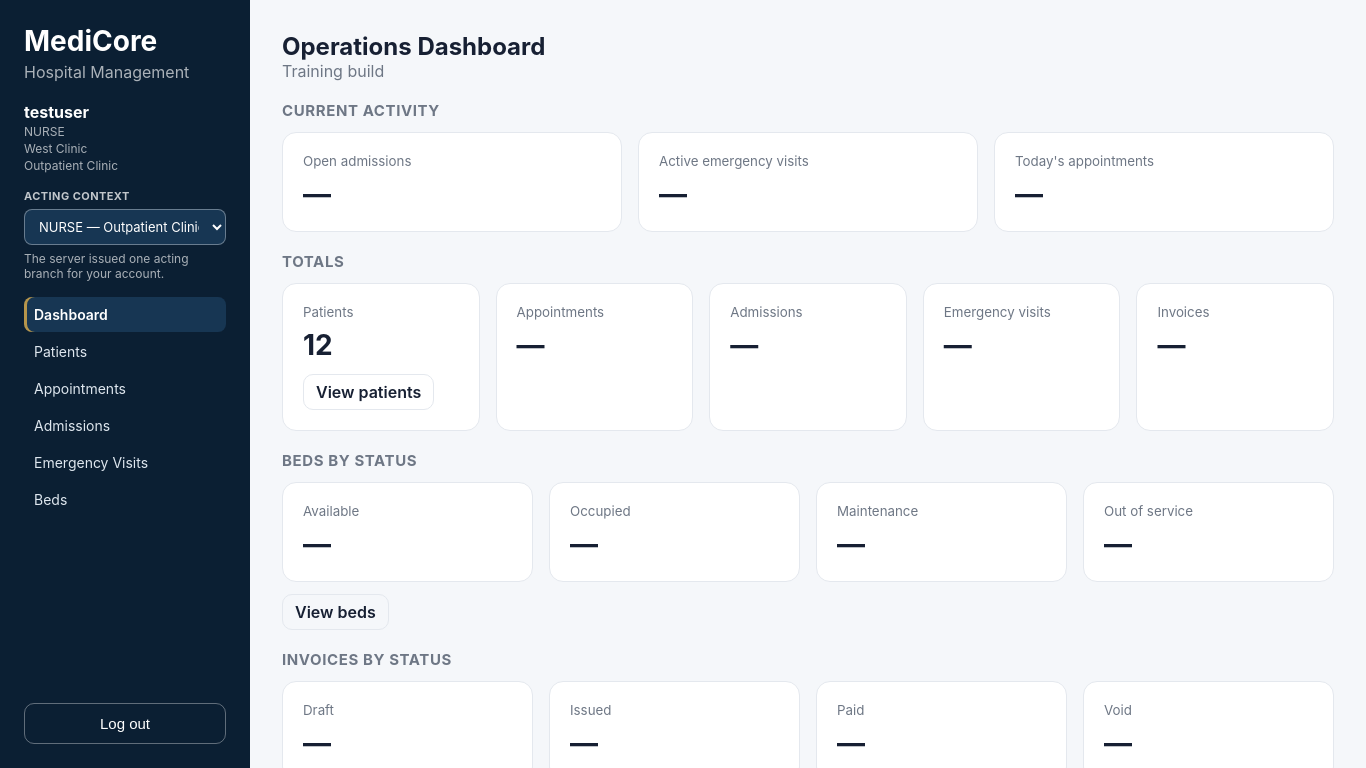
Test: AppShell › opens the emergency-visits screen for a clinical-administrative role and loads its list once
The image size is (1366, 768).
Expected: the text "Patients" is shown, [303,304,354,320]
Expected: the text "12" is shown, [303,328,333,362]
Click the button "Emergency Visits" at (125, 462), box [24,445,226,480]
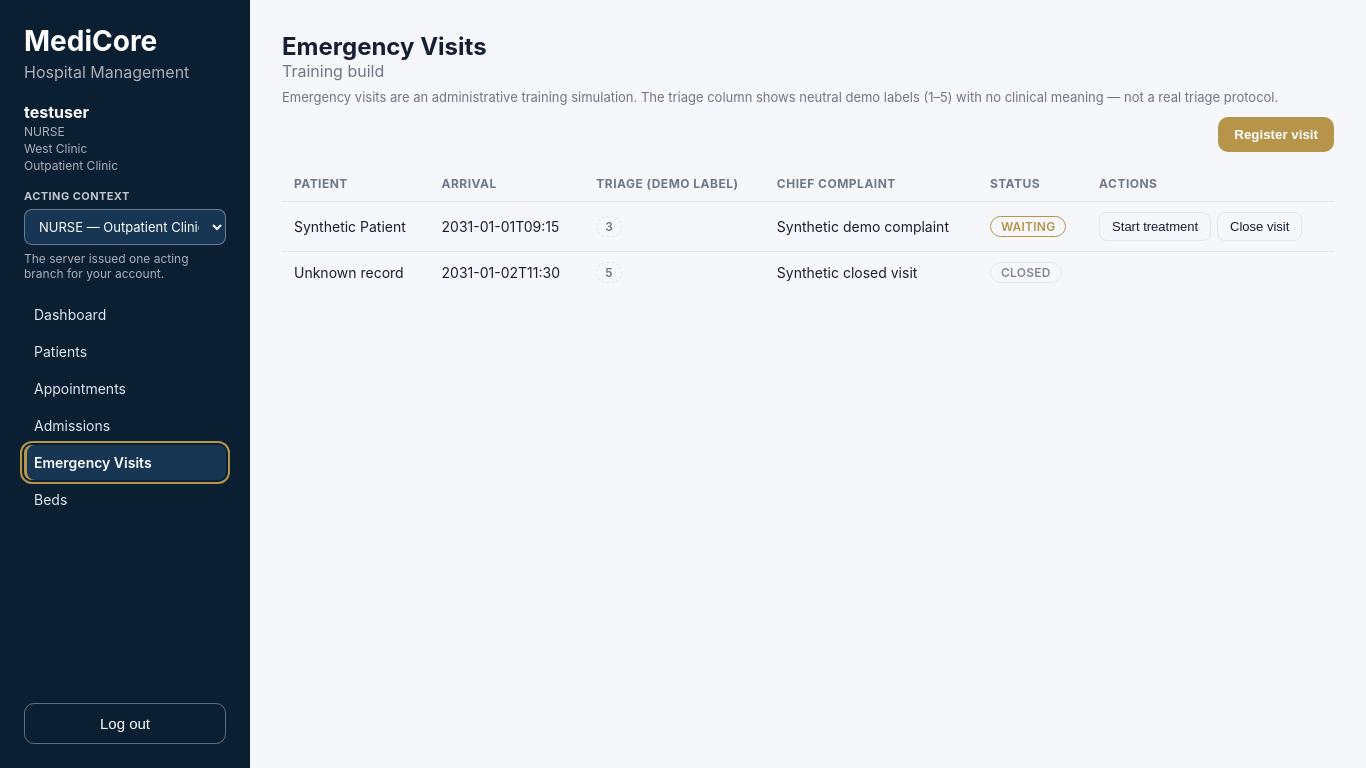
Expected: the heading "Emergency Visits" is shown, [282,32,487,61]
Expected: the number of rows is 3, [282,166,1334,202]; [282,202,1334,252]; [282,252,1334,293]
Expected: the text "Synthetic Patient" is shown, [282,202,430,252]
